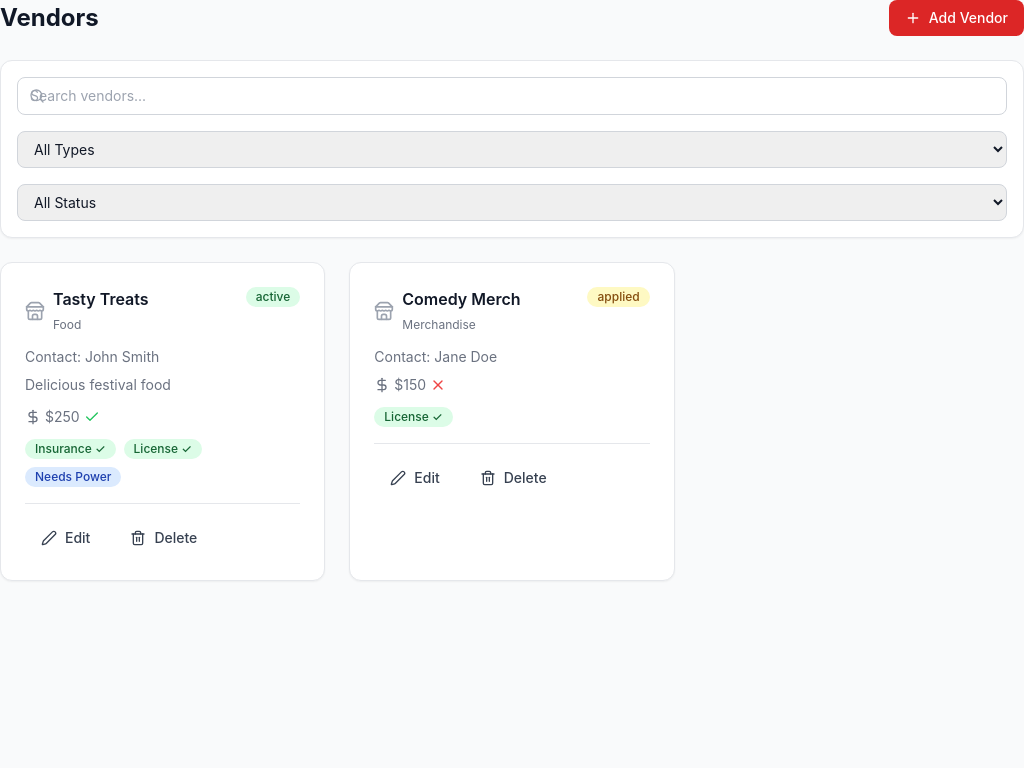
Test: Vendors › edit vendor modal › opens modal with vendor data when clicking Edit
The image size is (1024, 768).
Expected: the heading "Tasty Treats" is shown, [53,287,149,311]
Click the button "Edit" below "Needs Power" at (66, 538), box [25,520,106,556]
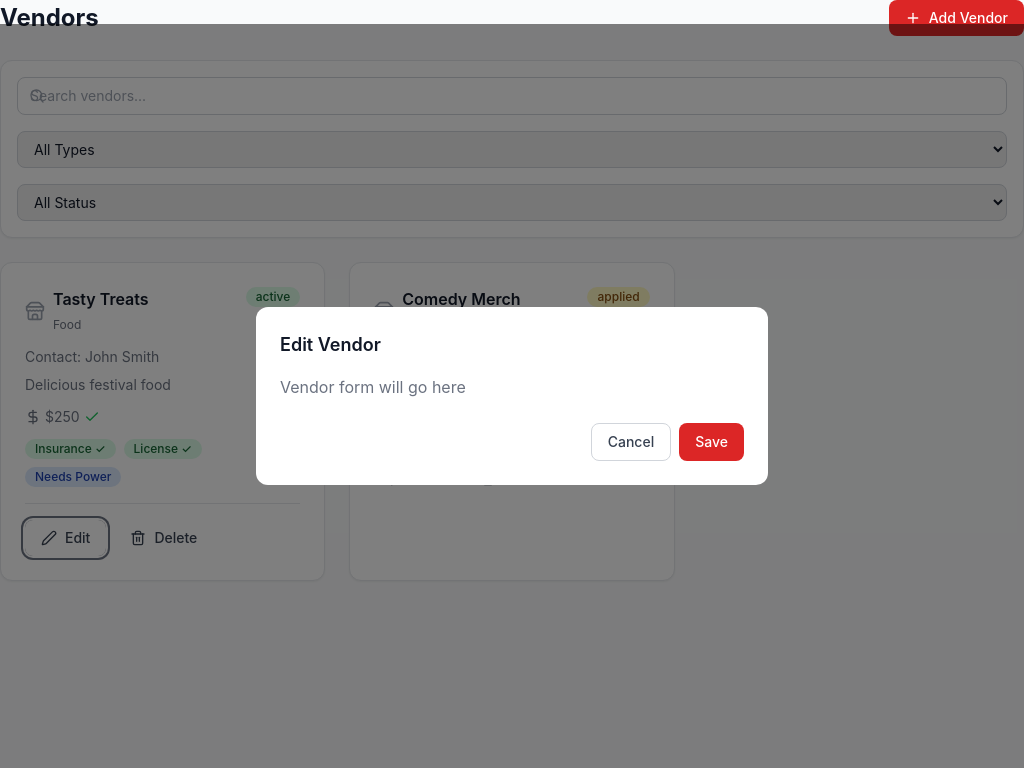
Expected: the heading "Edit Vendor" is shown, [280,334,381,355]
